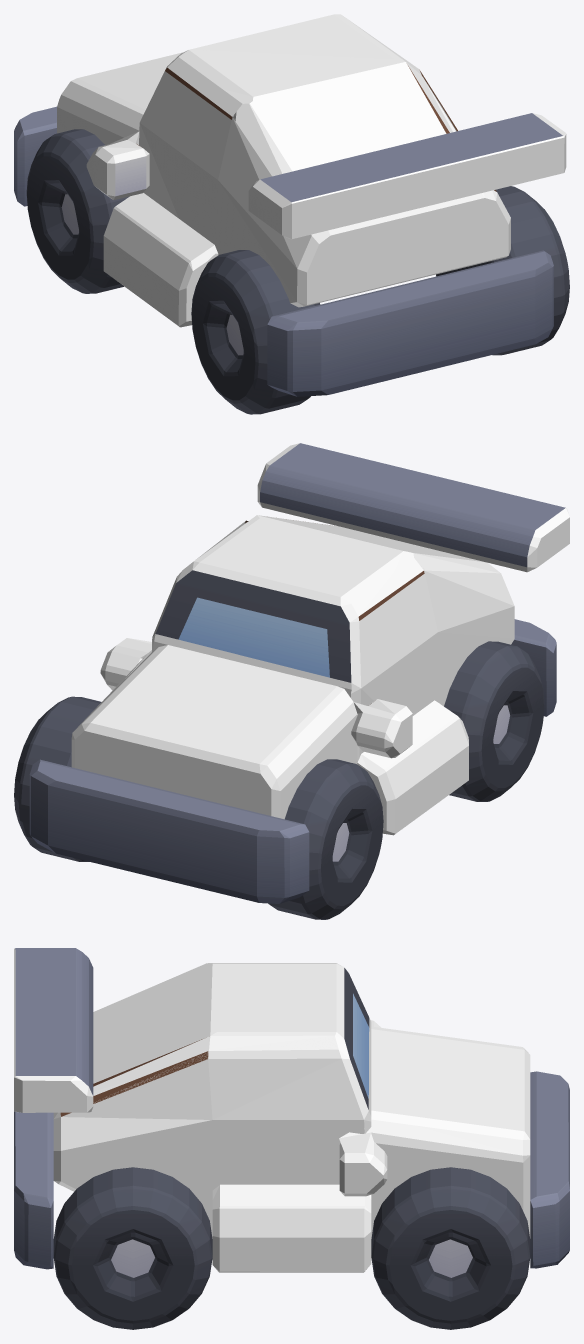
File: KitRacer.fbx
The picture shows the model from 3 angles, top to bottom: view 1: azimuth 30°, elevation 25°; view 2: azimuth 150°, elevation 25°; view 3: azimuth 270°, elevation 25°; orthographic projection. The views are drawn at different scales.
Parts seen in each view (by area): view 1: KitRacer_Body, Wheel_RL, Wheel_FL, Wheel_RR; view 2: KitRacer_Body, Wheel_RL, Wheel_FL, Wheel_FR; view 3: KitRacer_Body, Wheel_FR, Wheel_RR.
Boxes of the visible parts, bbox=[...] form: KitRacer_Body: bbox=[14, 14, 566, 396]; Wheel_RL: bbox=[191, 250, 320, 414]; Wheel_FL: bbox=[26, 129, 129, 293]; Wheel_RR: bbox=[436, 186, 569, 355]; KitRacer_Body: bbox=[29, 443, 569, 903]; Wheel_RL: bbox=[444, 641, 544, 801]; Wheel_FL: bbox=[268, 759, 383, 919]; Wheel_FR: bbox=[14, 696, 101, 861]; KitRacer_Body: bbox=[14, 948, 569, 1272]; Wheel_FR: bbox=[371, 1167, 530, 1329]; Wheel_RR: bbox=[53, 1167, 212, 1329].
Size of the model in its own units: 1.93 by 1.54 by 3.
